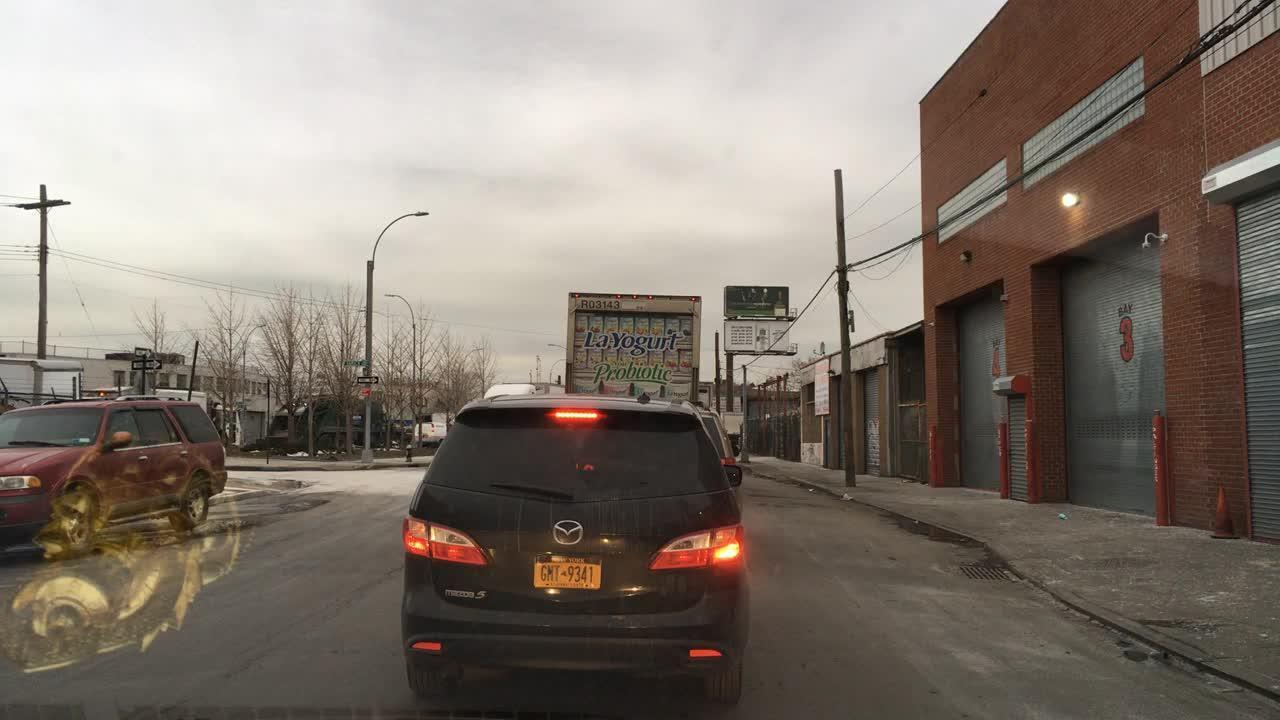Mazda: (531, 501, 598, 557)
